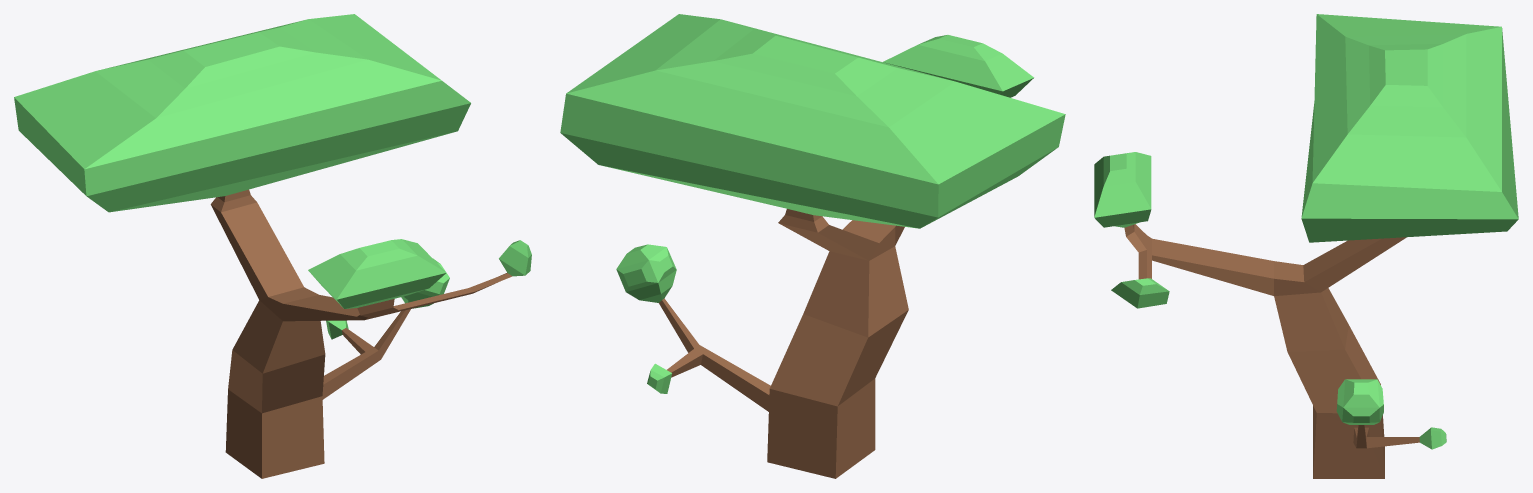
Rendered from Tree.fbx.
The picture shows the model from 3 angles, left to right: view 1: azimuth 30°, elevation 25°; view 2: azimuth 150°, elevation 25°; view 3: azimuth 270°, elevation 25°; orthographic projection. The views are drawn at different scales.
Visible parts, largest first — view 1: Cube; view 2: Cube; view 3: Cube.
Part boxes in pixels (x1,y1,x2,y2): Cube: (14,14,531,478); Cube: (560,14,1065,478); Cube: (1094,14,1518,478).
Bounding box in the file's own units: 1218 × 1197 × 1181.
